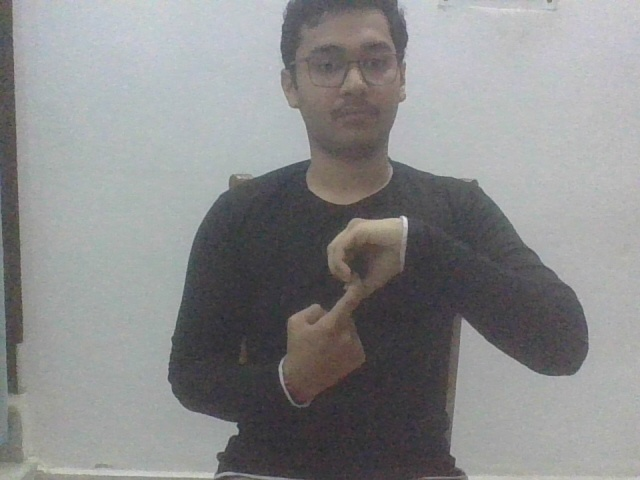Q: (279, 214, 409, 407)
